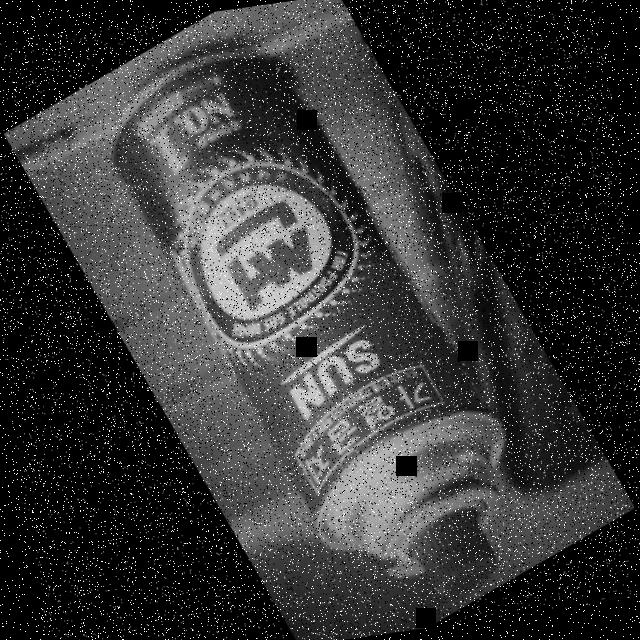chemical_spray_can: (48, 0, 589, 640)
